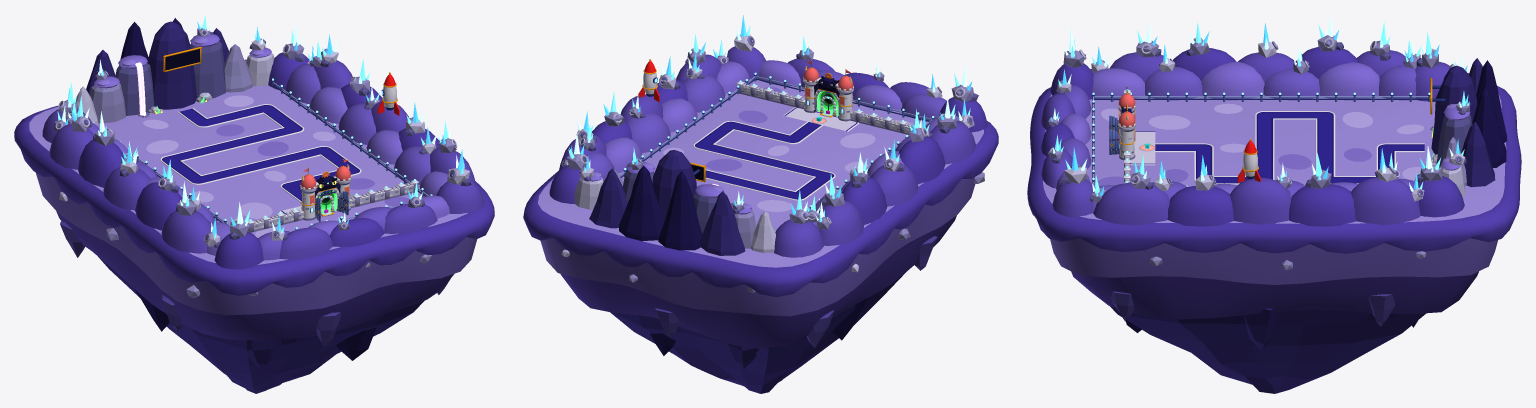
File: moon_base.fbx
3 views of the same model, side by side, from view 1: azimuth 30°, elevation 25°; view 2: azimuth 150°, elevation 25°; view 3: azimuth 270°, elevation 25° (orthographic). The views are drawn at different scales.
Parts seen in each view (by area): view 1: Base_Cliff, Base_Backdrop, Base_Ground, Base_Road, Base_Trees, Base_Glow, Base_Gate, Base_Dressing, Base_GateTrim; view 2: Base_Cliff, Base_Backdrop, Base_Ground, Base_Trees, Base_Road, Base_Glow, Base_Gate, Base_Dressing, Base_GateTrim; view 3: Base_Cliff, Base_Backdrop, Base_Ground, Base_Trees, Base_Road, Base_Glow, Base_Dressing, Base_Gate, Base_GateTrim.
Boxes of the visible parts, bbox=[...] form: Base_Cliff: bbox=[14, 59, 494, 393]; Base_Backdrop: bbox=[42, 18, 484, 269]; Base_Ground: bbox=[29, 60, 467, 264]; Base_Road: bbox=[160, 104, 361, 214]; Base_Trees: bbox=[54, 28, 471, 247]; Base_Glow: bbox=[57, 15, 468, 237]; Base_Gate: bbox=[248, 159, 418, 232]; Base_Dressing: bbox=[131, 80, 428, 229]; Base_GateTrim: bbox=[300, 159, 350, 204]; Base_Cliff: bbox=[523, 121, 998, 393]; Base_Backdrop: bbox=[549, 46, 987, 257]; Base_Ground: bbox=[538, 80, 983, 267]; Base_Trees: bbox=[561, 34, 978, 229]; Base_Road: bbox=[693, 107, 858, 200]; Base_Glow: bbox=[568, 15, 972, 231]; Base_Gate: bbox=[736, 60, 914, 134]; Base_Dressing: bbox=[619, 74, 934, 210]; Base_GateTrim: bbox=[803, 61, 853, 123]; Base_Cliff: bbox=[1027, 86, 1521, 393]; Base_Backdrop: bbox=[1041, 46, 1507, 226]; Base_Ground: bbox=[1043, 94, 1506, 223]; Base_Trees: bbox=[1048, 35, 1470, 202]; Base_Road: bbox=[1130, 111, 1424, 184]; Base_Glow: bbox=[1051, 15, 1469, 196]; Base_Dressing: bbox=[1092, 94, 1430, 185]; Base_Gate: bbox=[1109, 86, 1155, 183]; Base_GateTrim: bbox=[1118, 93, 1154, 150].
Bounding box in the file's own units: 188 × 179 × 244.
